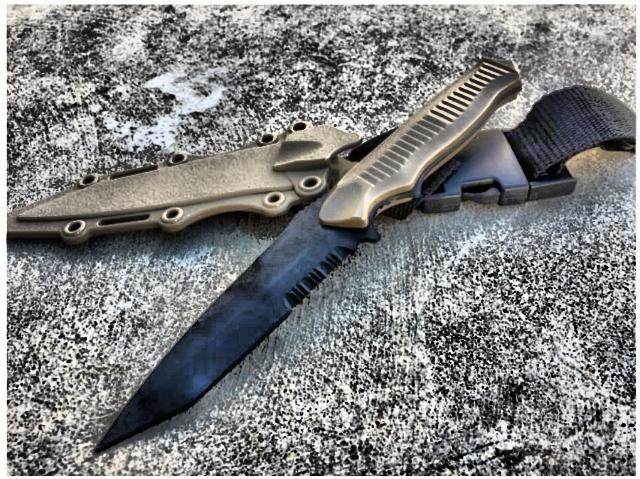knife: (88, 174, 382, 458)
